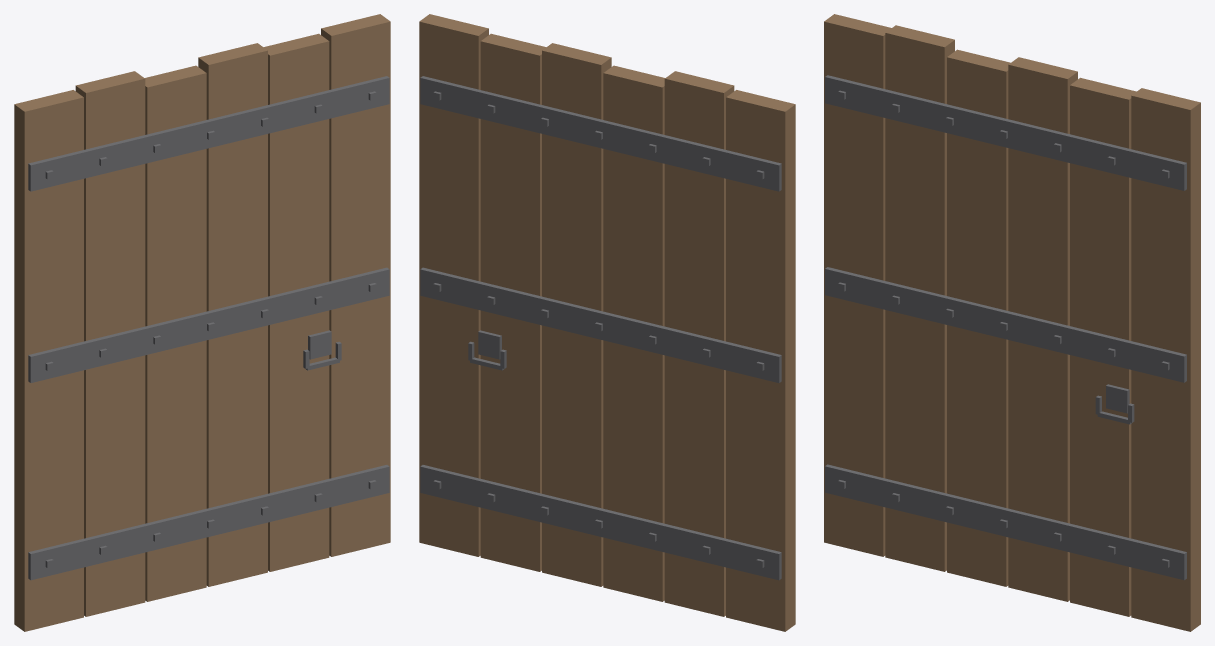
The model's file is Dungeon door 128.fbx.
3 renders of one model, left to right at view 1: azimuth 30°, elevation 25°; view 2: azimuth 150°, elevation 25°; view 3: azimuth 330°, elevation 25°, orthographic.
Visible parts, largest first — view 1: Door planks, Door iron; view 2: Door planks, Door iron; view 3: Door planks, Door iron.
Part boxes in pixels (x1,y1,x2,y2): Door planks: (14,14,390,631); Door iron: (28,76,389,580); Door planks: (419,14,795,631); Door iron: (420,76,781,580); Door planks: (824,14,1200,631); Door iron: (825,75,1186,580).
Bounding box in the file's own units: 2.04 × 2.79 × 0.192.
